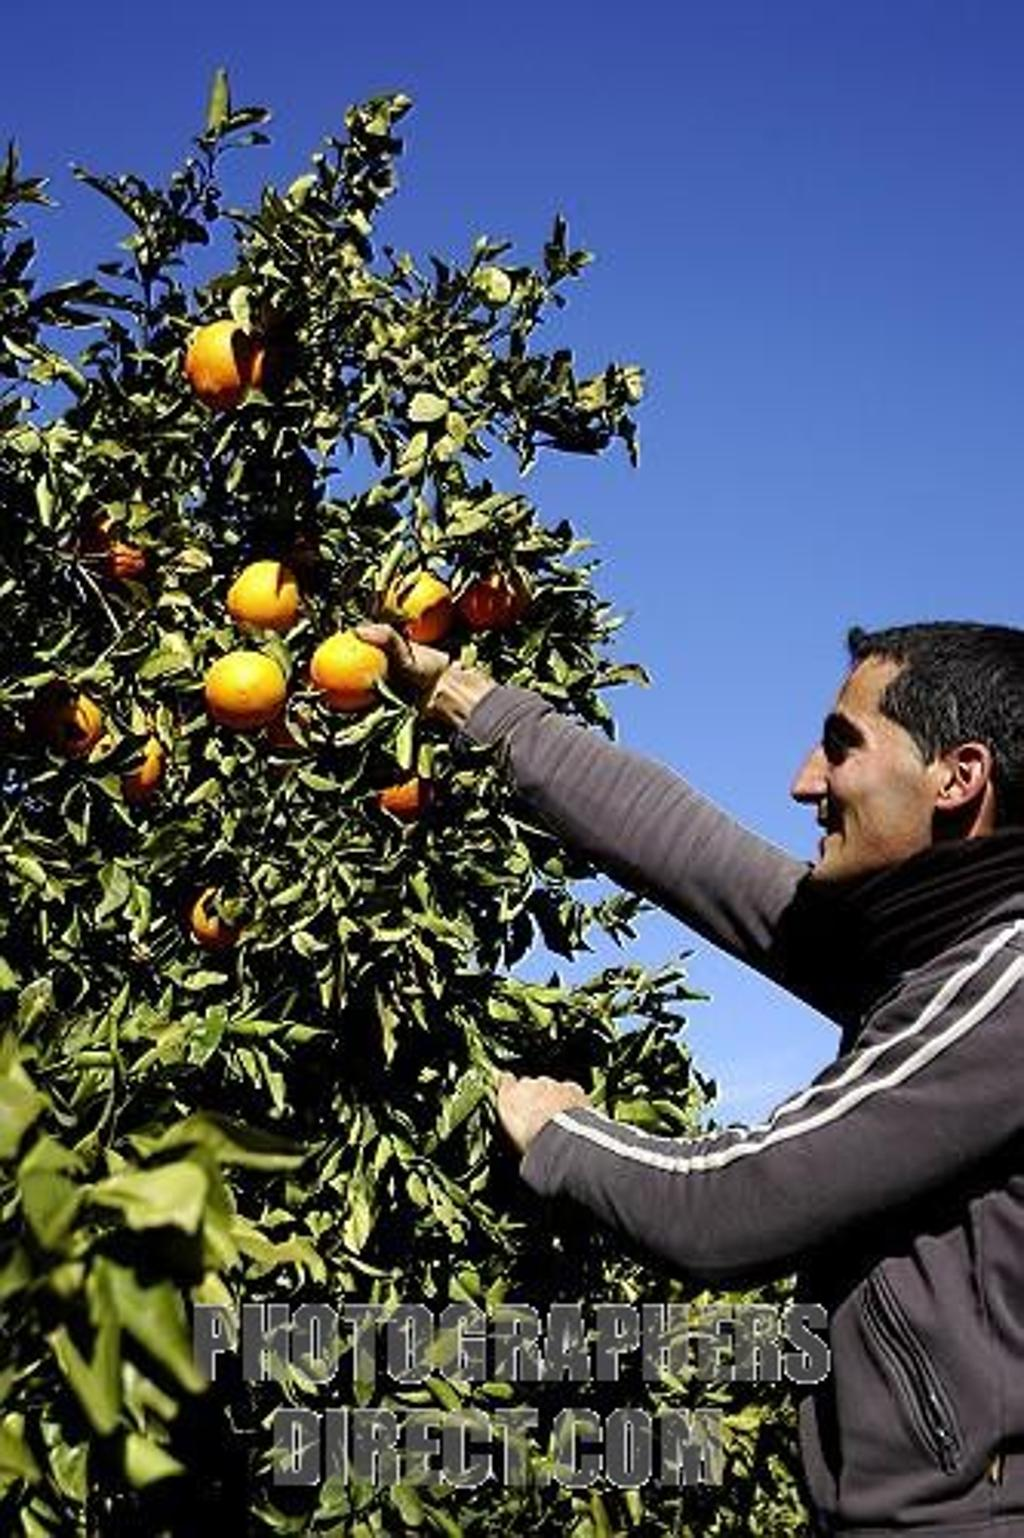face: (799, 646, 964, 880)
